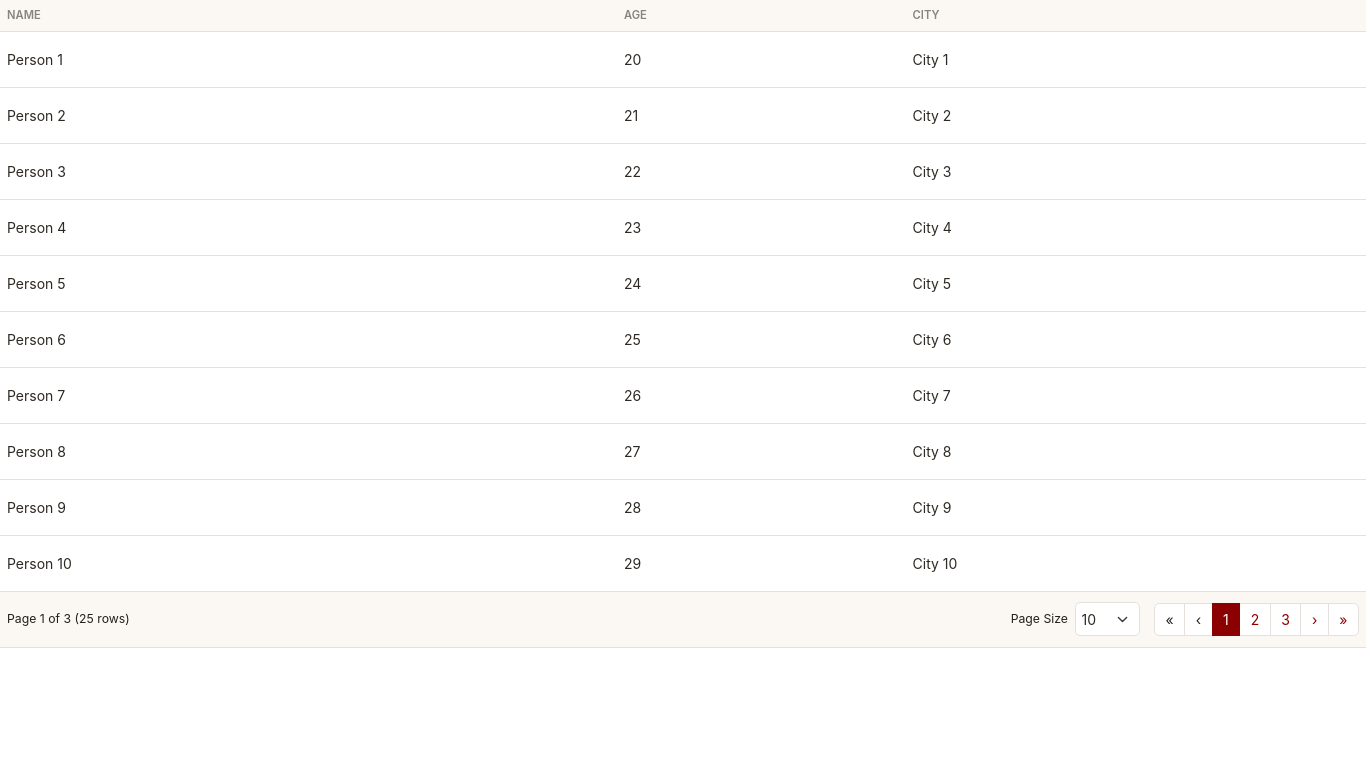
it: DataGrid › client-side pagination › navigates to next page
Note: Click page 2
Click the button "2".
click(1255, 619)  # box [1239,602,1271,636]
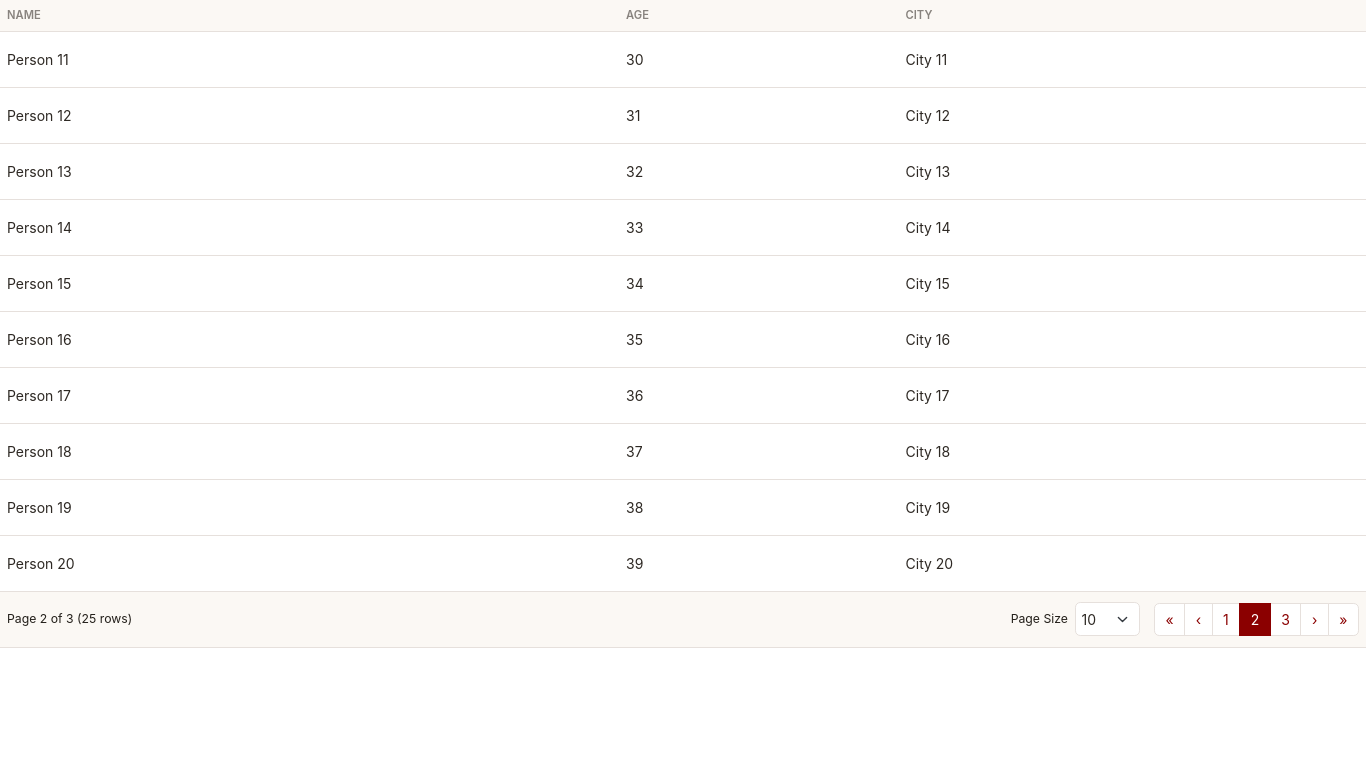
Expected: the row "Person 11 30 City 11" is shown, [0,31,1365,87]
